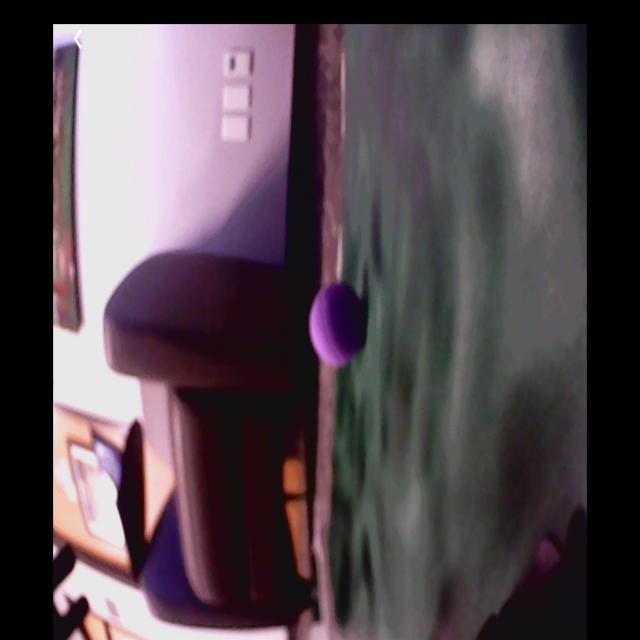ball: (312, 282, 364, 369)
